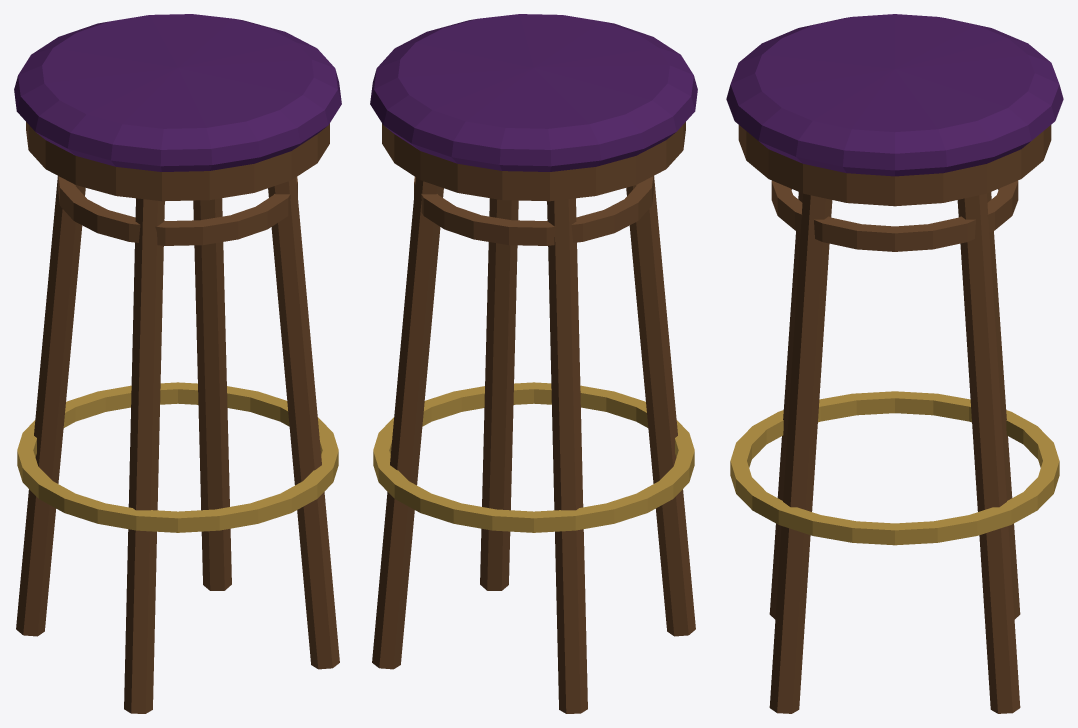
Rendered from studio_stool_purple.fbx.
3 views of the same model, side by side, from view 1: azimuth 30°, elevation 25°; view 2: azimuth 150°, elevation 25°; view 3: azimuth 270°, elevation 25° (orthographic). The views are drawn at different scales.
Visible parts, largest first — view 1: studio_stool_purple_LOD0; view 2: studio_stool_purple_LOD0; view 3: studio_stool_purple_LOD0.
Boxes of the visible parts, x1,y1,x2,y2 form: studio_stool_purple_LOD0: [14, 14, 341, 713]; studio_stool_purple_LOD0: [370, 14, 697, 713]; studio_stool_purple_LOD0: [726, 14, 1063, 713].
Size of what is drawn, in the model's own units: 0.41 by 0.7965 by 0.41.
1 material, 1 textured.
